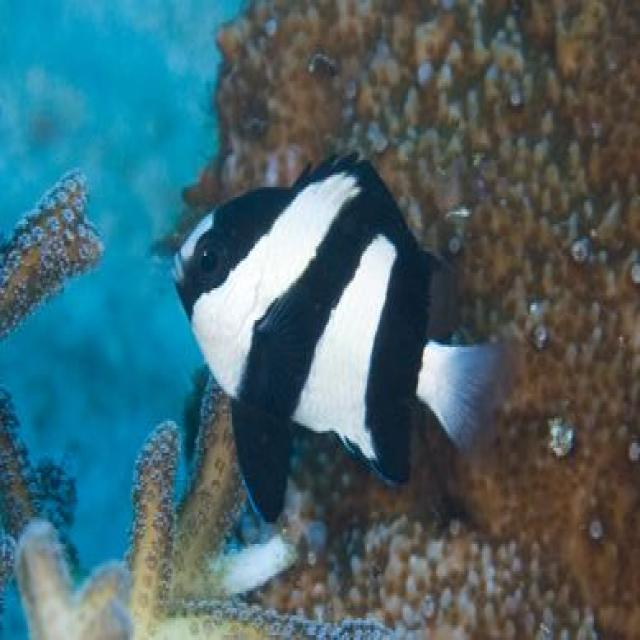ThreeStripedDamselfish: (171, 153, 502, 527)
